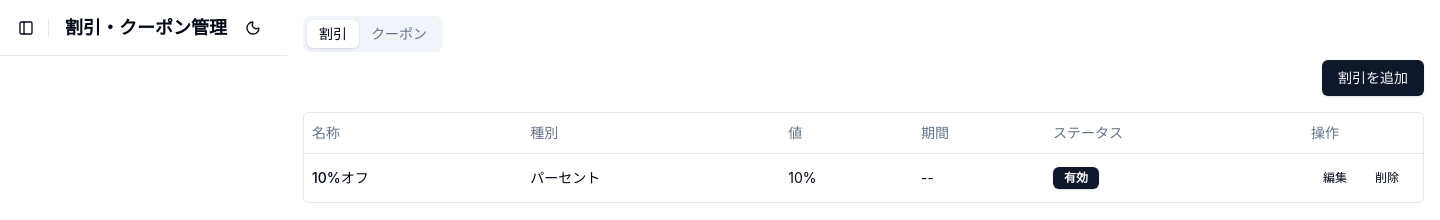
Test: DiscountsPage › クーポンタブに空メッセージを表示する
The image size is (1440, 220).
What coordinates should you click on to do the following:
click the tab "クーポン"
I would click on:
 (399, 34)
Its box is [359,20,439,48].
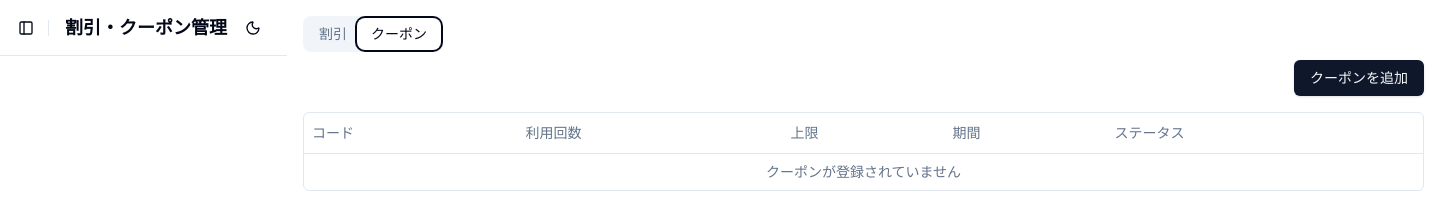
Expected: the text "クーポンが登録されていません" is shown, [304,153,1423,190]
